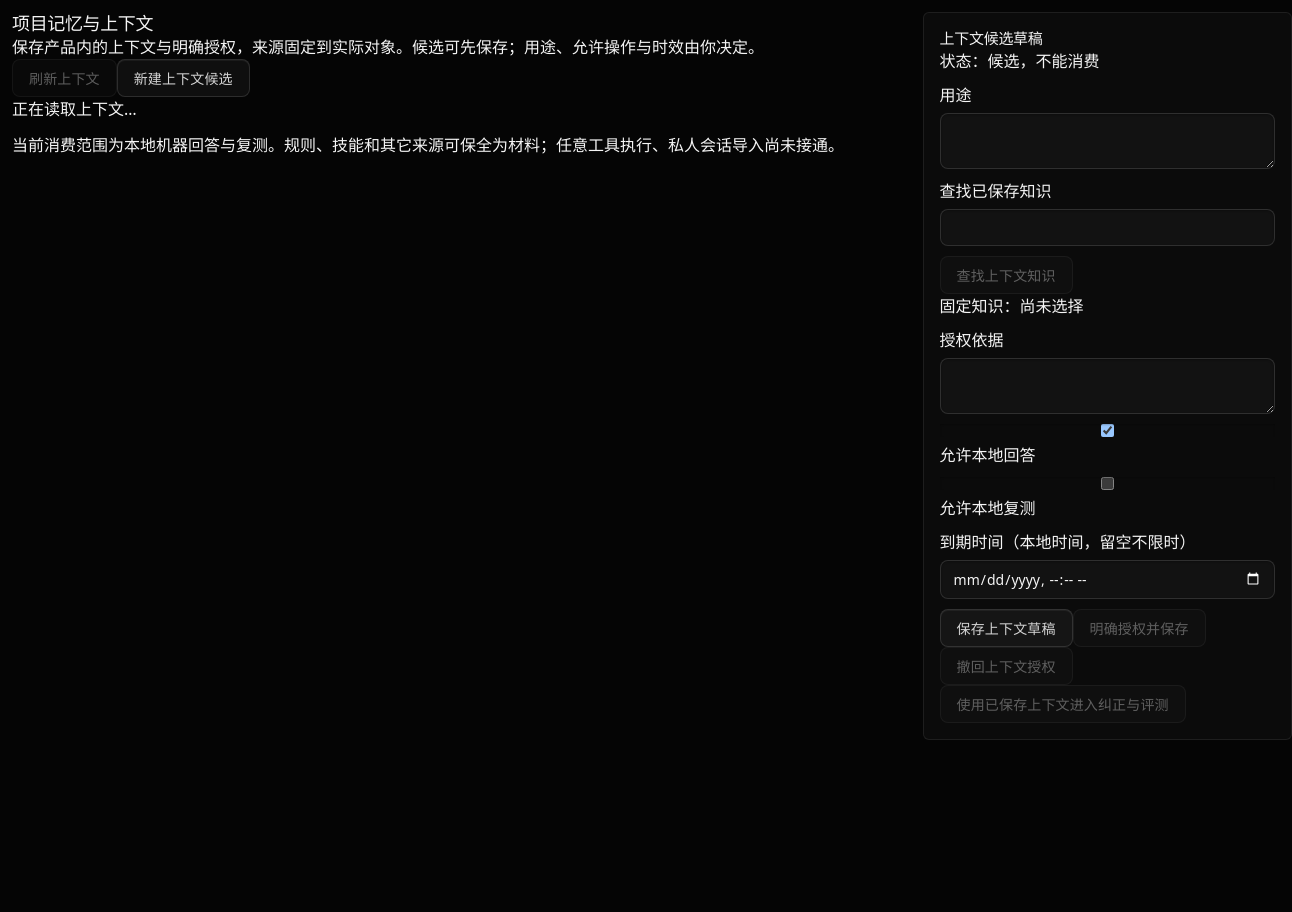
lost acknowledgement freezes create identity and does not erase a later draft
The width and height of the screenshot is (1292, 912).
Type "发送版本" into the text box labelled "用途". click: (1107, 140)
box: [940,112,1275,168]
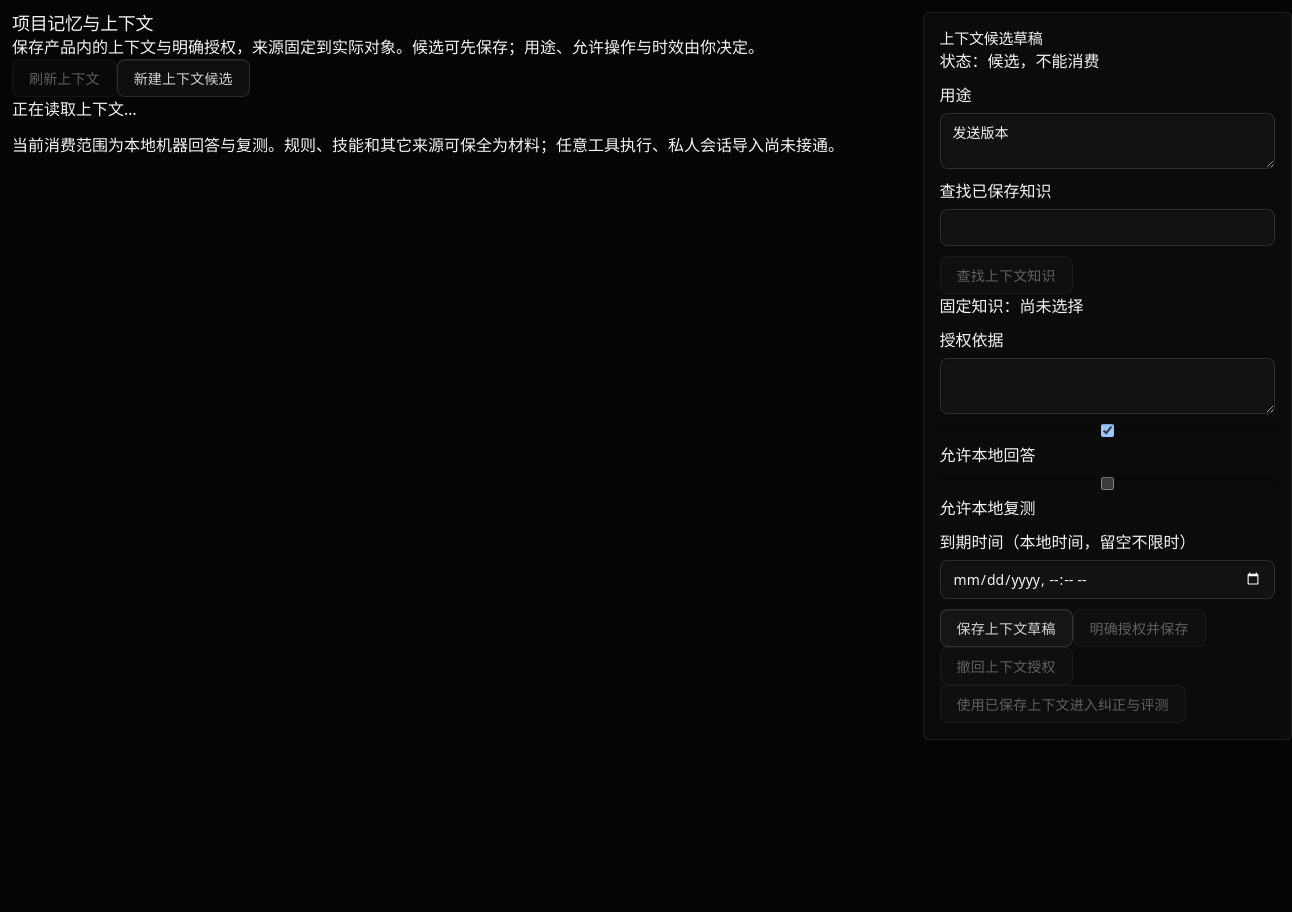
Click the button "保存上下文草稿". click: click(1006, 628)
box: [940,608,1073,646]
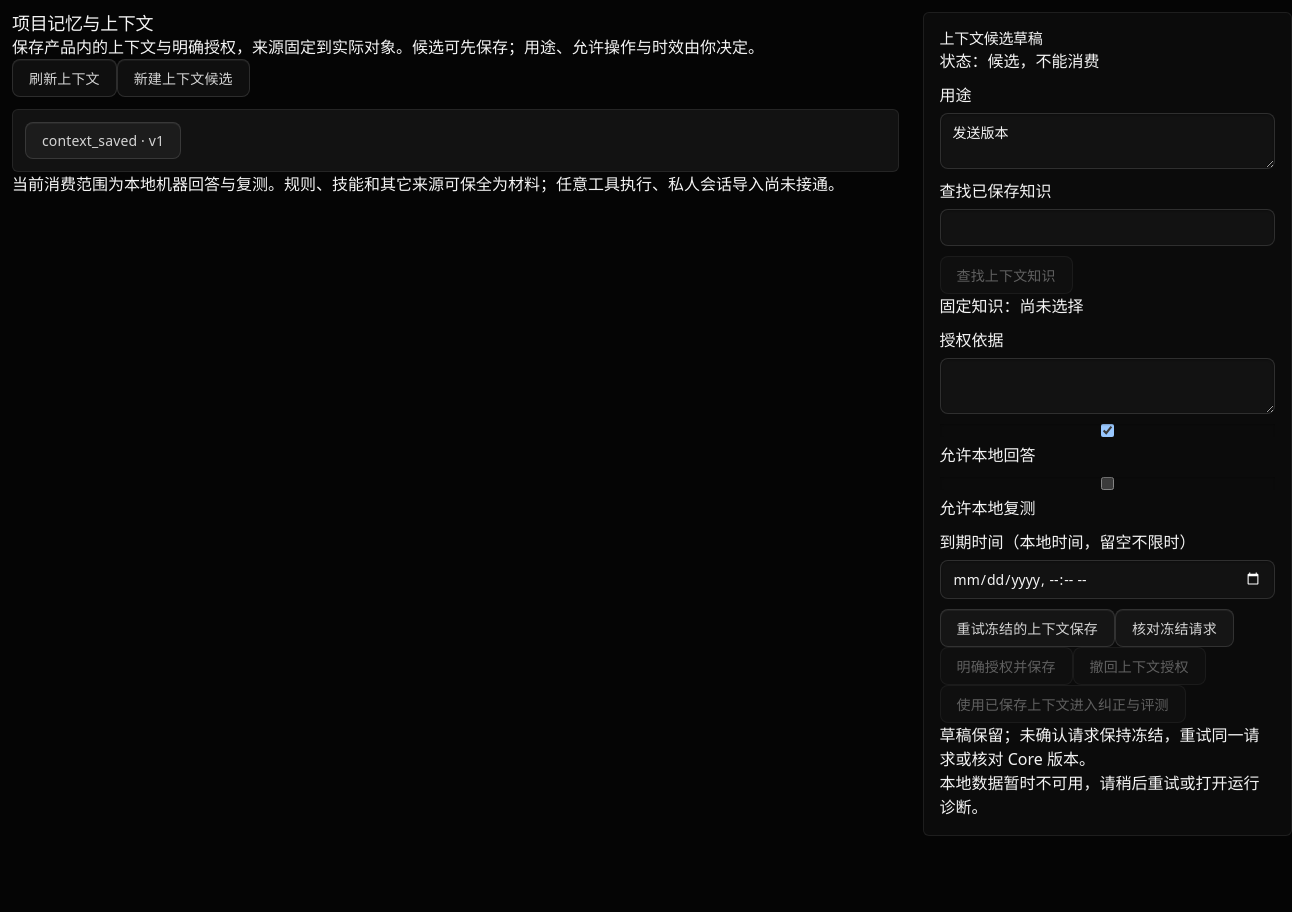
expect the message "本地数据暂时不可用，请稍后重试或打开运行诊断。" is shown: met, box [940,770,1275,818]
Replace the text in the text box labelled "用途" with "随后编辑". click: (1107, 140)
box: [940,112,1275,168]
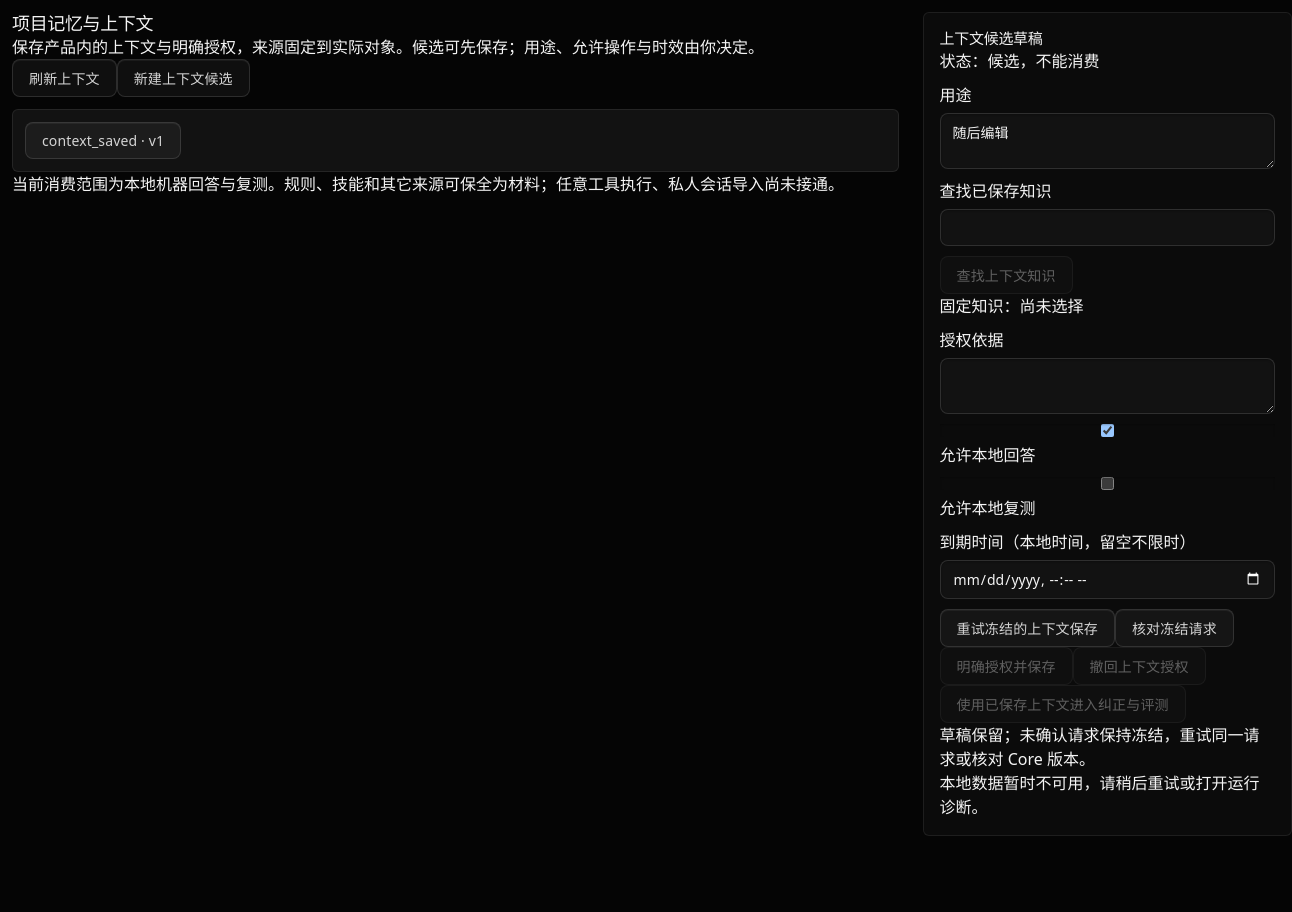
Click the button "重试冻结的上下文保存". click: click(1027, 628)
box: [940,608,1115,646]
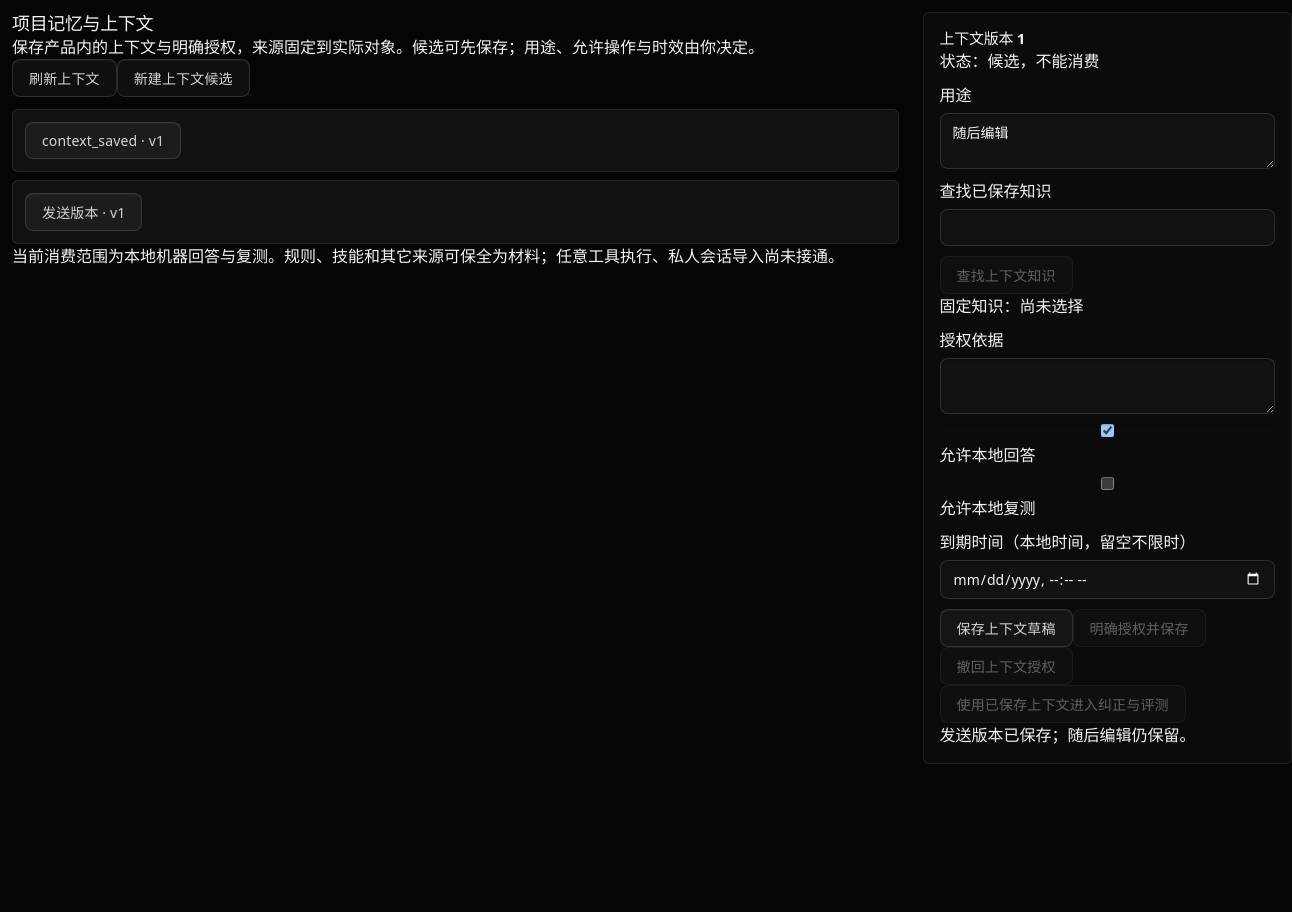
expect the text "发送版本已保存；随后编辑仍保留。" is shown: met, box [940,724,1196,746]
